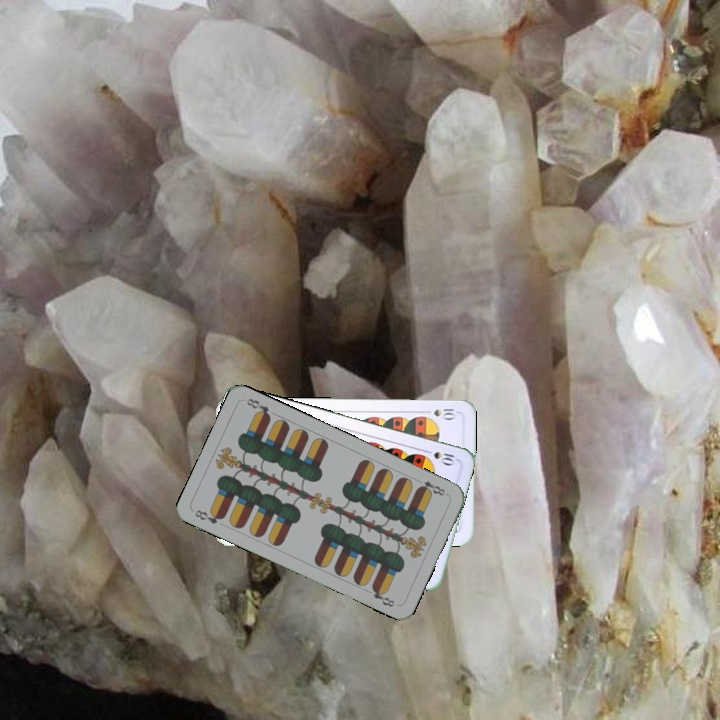E8: (190, 505, 227, 527), (414, 477, 448, 498)
S10: (420, 445, 459, 467), (429, 405, 460, 420)
